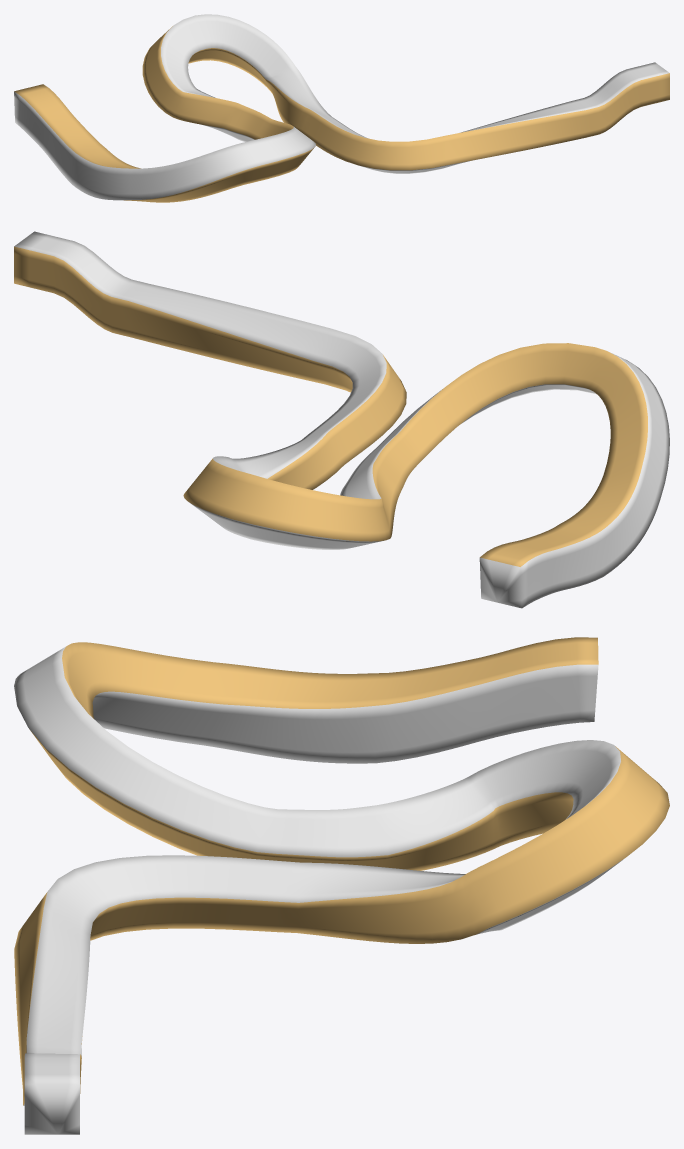
Rendered from weird_curve.fbx.
3 views of the same model, one above another, from view 1: azimuth 30°, elevation 25°; view 2: azimuth 150°, elevation 25°; view 3: azimuth 270°, elevation 25° (orthographic). The views are drawn at different scales.
Parts seen in each view (by area): view 1: weird_curve; view 2: weird_curve; view 3: weird_curve.
Boxes of the visible parts, bbox=[...] form: weird_curve: bbox=[14, 14, 669, 202]; weird_curve: bbox=[14, 231, 669, 608]; weird_curve: bbox=[14, 637, 669, 1134].
Size of the model in its own units: 216 by 130 by 34.96.
